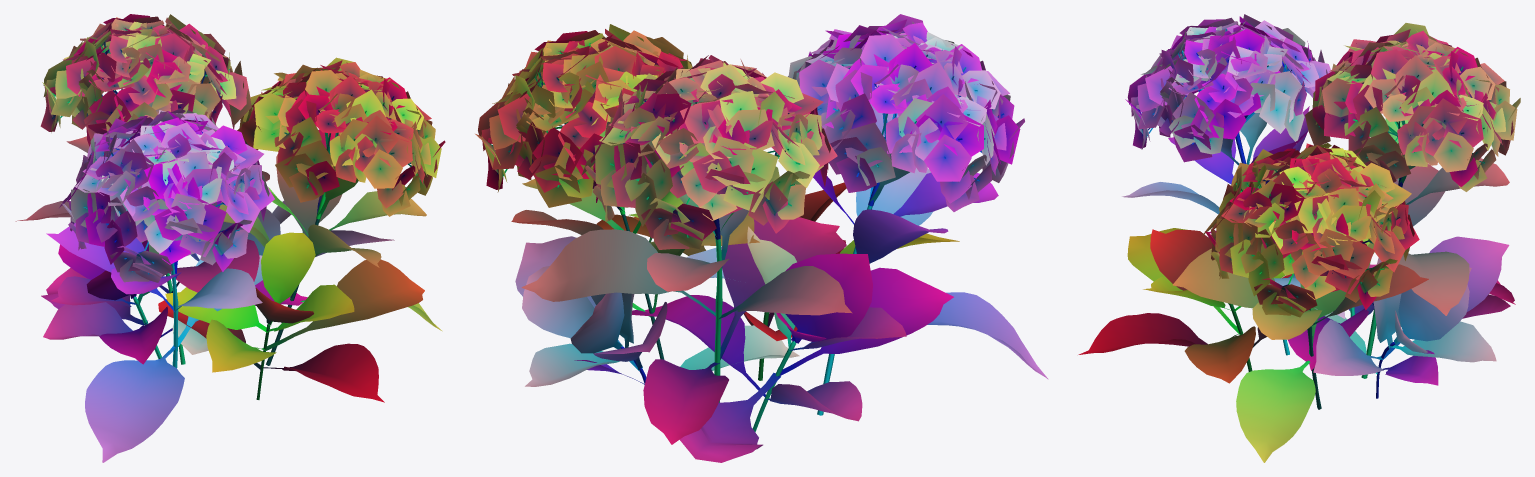
File: Bigleaf_Hydrangea_vgztealha_Mid_vgztealha_VarG_LOD0.fbx
3 views of the same model, side by side, from view 1: azimuth 30°, elevation 25°; view 2: azimuth 150°, elevation 25°; view 3: azimuth 270°, elevation 25° (orthographic). The views are drawn at different scales.
Parts seen in each view (by area): view 1: _665w_VarG_LOD1; view 2: _665w_VarG_LOD1; view 3: _665w_VarG_LOD1.
Part boxes in pixels (x1=…): _665w_VarG_LOD1: x1=15, y1=14, x2=445, y2=462; _665w_VarG_LOD1: x1=475, y1=14, x2=1048, y2=462; _665w_VarG_LOD1: x1=1078, y1=14, x2=1520, y2=462.
Size of the model in its own units: 41.95 by 32.62 by 39.9.
